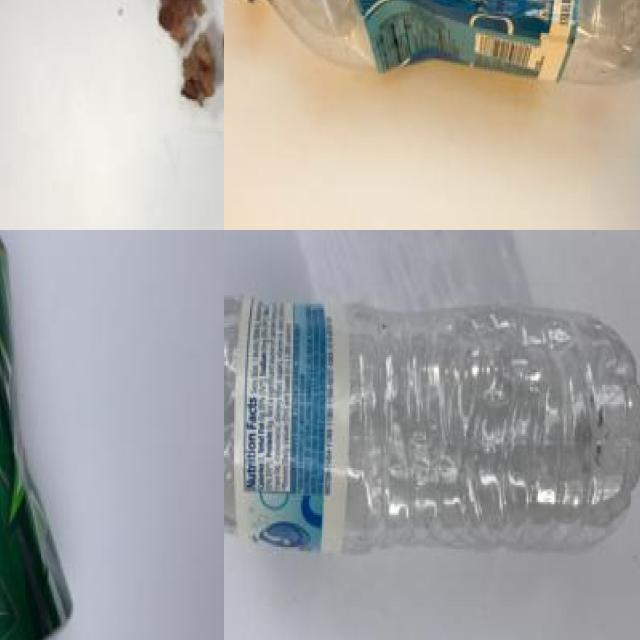compost: (125, 0, 224, 112)
plastic: (224, 281, 640, 566), (224, 0, 640, 86), (0, 230, 87, 640)
